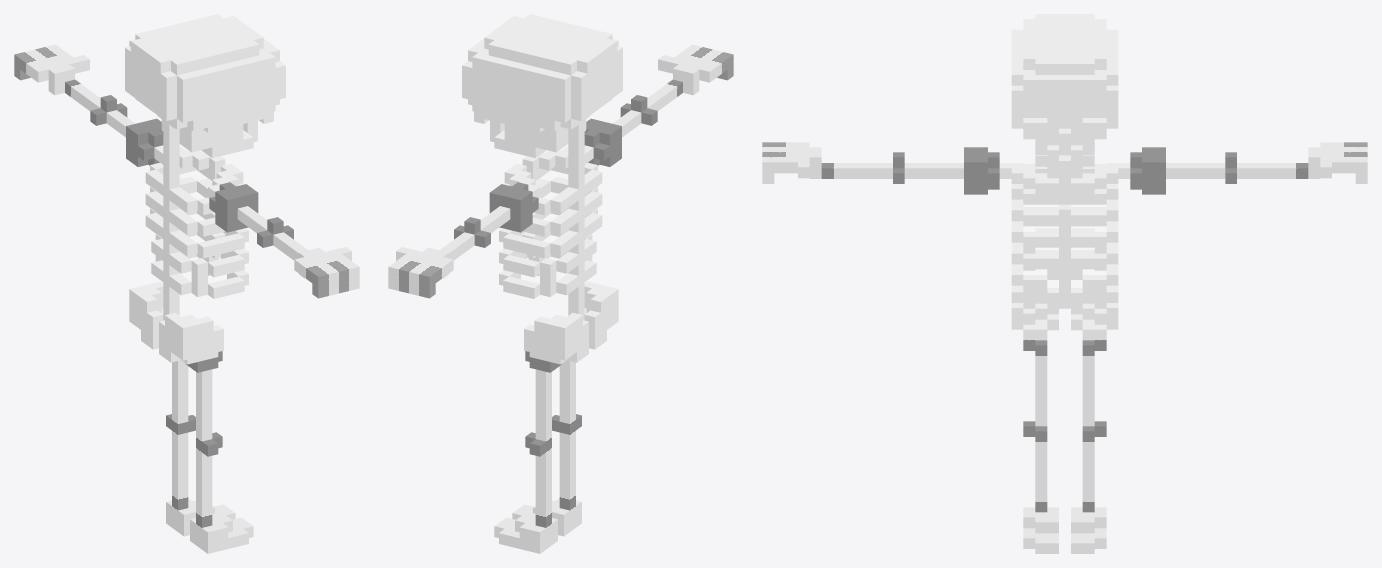
File: 骷髅皮肤（复刻）.gltf
3 views of the same model, side by side, from view 1: azimuth 30°, elevation 25°; view 2: azimuth 150°, elevation 25°; view 3: azimuth 270°, elevation 25° (orthographic).
Visible parts, largest first — view 1: Object; view 2: Object; view 3: Object.
Boxes of the visible parts, <box> form: Object: <box>14,14,359,553</box>; Object: <box>388,14,733,553</box>; Object: <box>762,14,1367,553</box>.
Bounding box in the file's own units: 11 × 46 × 51.
Materials: 1 (1 with a texture image).
